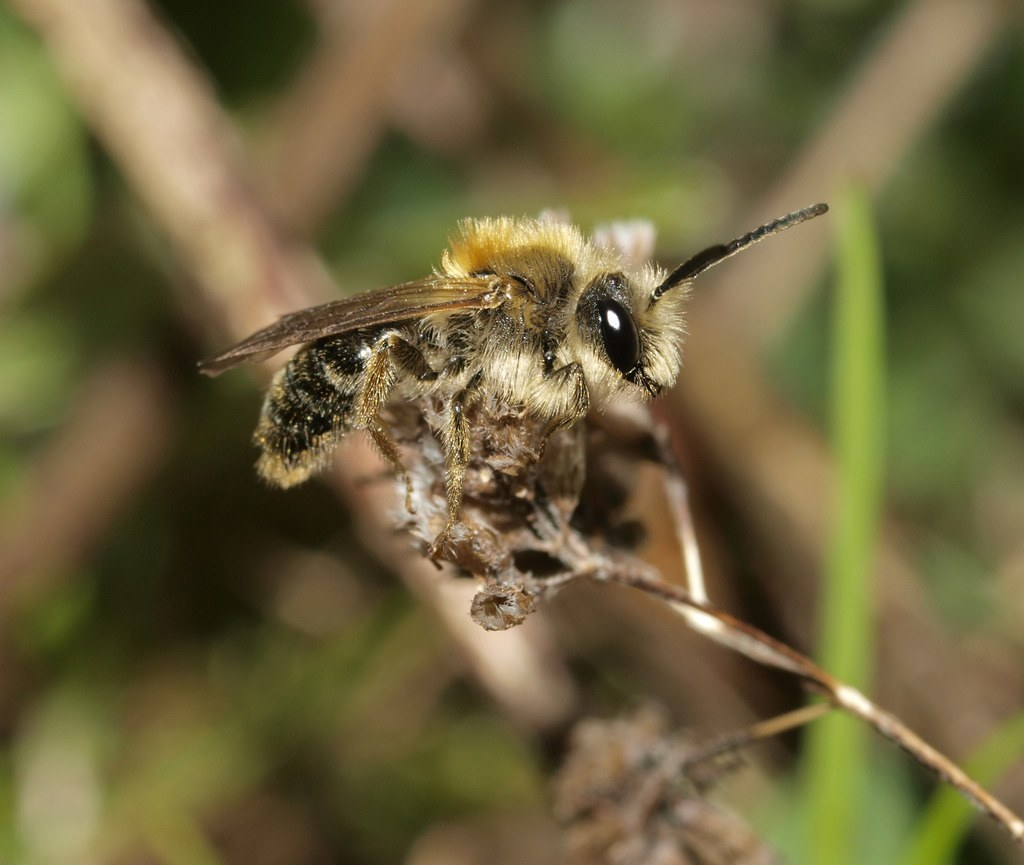bee: (193, 195, 829, 485)
